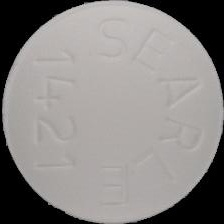16590-024: (0, 0, 224, 224)
